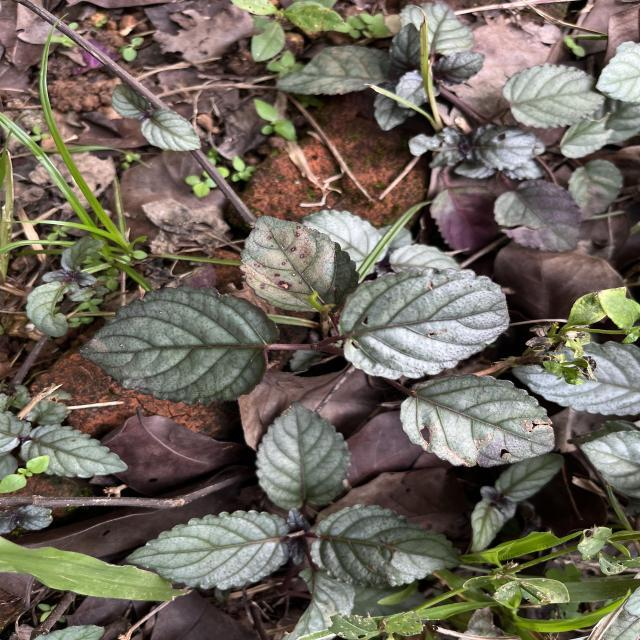Hemigraphis colorata: (75, 281, 284, 408), (330, 262, 514, 383), (396, 372, 558, 471), (120, 506, 297, 593), (307, 500, 468, 591), (235, 212, 362, 316), (252, 398, 354, 516), (500, 60, 610, 131), (16, 421, 131, 482)
